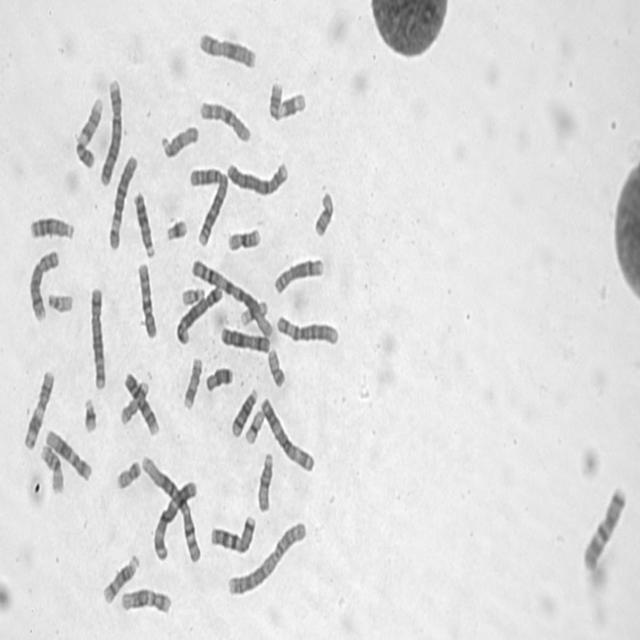A1: (189, 258, 280, 346), (141, 452, 203, 564)
A2: (226, 518, 309, 603), (187, 163, 230, 250)
A3: (259, 396, 316, 474), (152, 477, 200, 564)
B4: (95, 78, 125, 189), (227, 158, 290, 198)
B5: (174, 286, 224, 348), (88, 283, 110, 392)
C10: (197, 99, 255, 145), (136, 261, 160, 342)
C11: (22, 364, 56, 454), (266, 76, 311, 122)
C12: (45, 427, 93, 482), (118, 582, 176, 619)
C6: (107, 151, 140, 254), (275, 312, 341, 356)
C7: (578, 482, 628, 578), (210, 513, 257, 556)
C8: (29, 246, 61, 326), (273, 256, 326, 296)
C9: (123, 371, 160, 438), (74, 96, 105, 172)
D13: (132, 189, 156, 260), (27, 213, 78, 244)
D14: (102, 552, 142, 606), (230, 387, 260, 440)
D15: (159, 123, 201, 161), (256, 450, 276, 515)
E16: (38, 444, 66, 496), (228, 227, 262, 253)
E17: (120, 379, 150, 427), (182, 356, 205, 413)
E18: (312, 187, 336, 241), (205, 364, 234, 394)
F19: (243, 408, 266, 448), (240, 298, 270, 328)
F20: (116, 458, 142, 493), (266, 346, 286, 390)
G21: (81, 396, 98, 435), (166, 217, 188, 244)
G22: (44, 288, 75, 316), (179, 286, 207, 307)
X: (196, 30, 260, 71), (220, 325, 272, 354)
